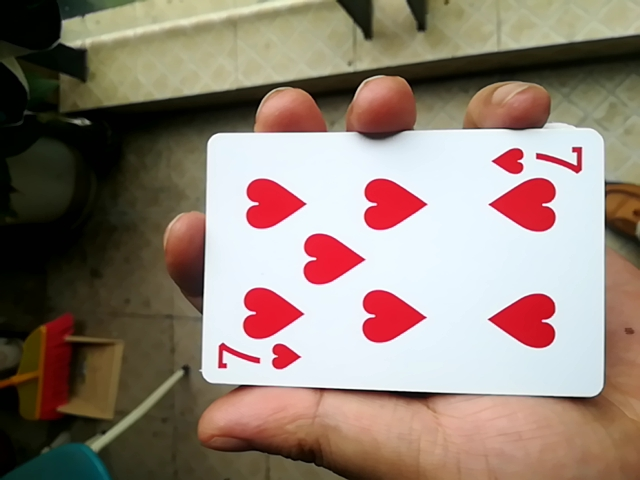hx 7: (188, 127, 599, 399)
